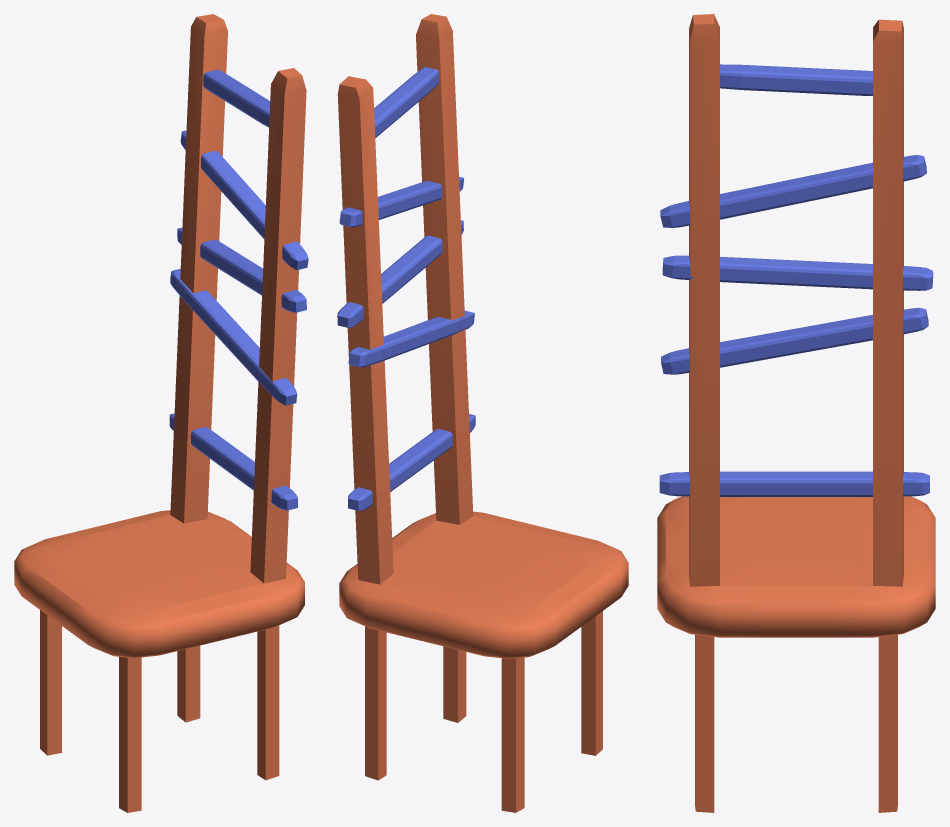
File: Silla1.fbx
3 renders of one model, left to right at view 1: azimuth 30°, elevation 25°; view 2: azimuth 150°, elevation 25°; view 3: azimuth 270°, elevation 25°, orthographic. The views are drawn at different scales.
Parts seen in each view (by area): view 1: Cube.002, Cube.003; view 2: Cube.002, Cube.003; view 3: Cube.002, Cube.003.
Part boxes in pixels (x1=…): Cube.002: x1=14, y1=14, x2=306, y2=812; Cube.003: x1=169, y1=69, x2=308, y2=510; Cube.002: x1=337, y1=14, x2=628, y2=812; Cube.003: x1=337, y1=67, x2=475, y2=511; Cube.002: x1=657, y1=14, x2=935, y2=812; Cube.003: x1=659, y1=64, x2=933, y2=496.
Bounding box in the file's own units: 34.13 × 109 × 34.13.
